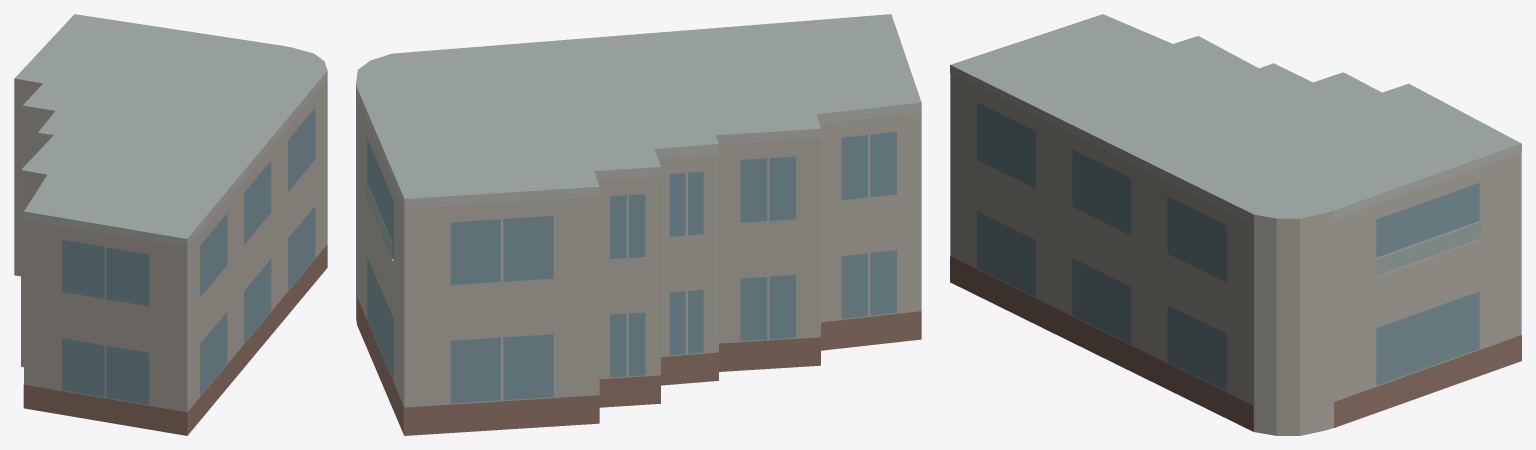
Rendered from survey-upis-32598498.glb.
3 renders of one model, left to right at view 1: azimuth 30°, elevation 25°; view 2: azimuth 150°, elevation 25°; view 3: azimuth 270°, elevation 25°, orthographic. The views are drawn at different scales.
Visible parts, largest first — view 1: survey-upis-32598498.tmp; view 2: survey-upis-32598498.tmp; view 3: survey-upis-32598498.tmp.
Part boxes in pixels (x1=…): survey-upis-32598498.tmp: x1=14, y1=14, x2=327, y2=435; survey-upis-32598498.tmp: x1=356, y1=14, x2=921, y2=435; survey-upis-32598498.tmp: x1=950, y1=14, x2=1521, y2=435.
Bounding box in the file's own units: 12.31 × 6.1 × 14.54.
